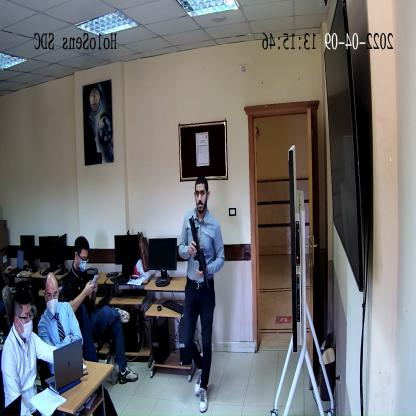handgun: (188, 220, 211, 295)
